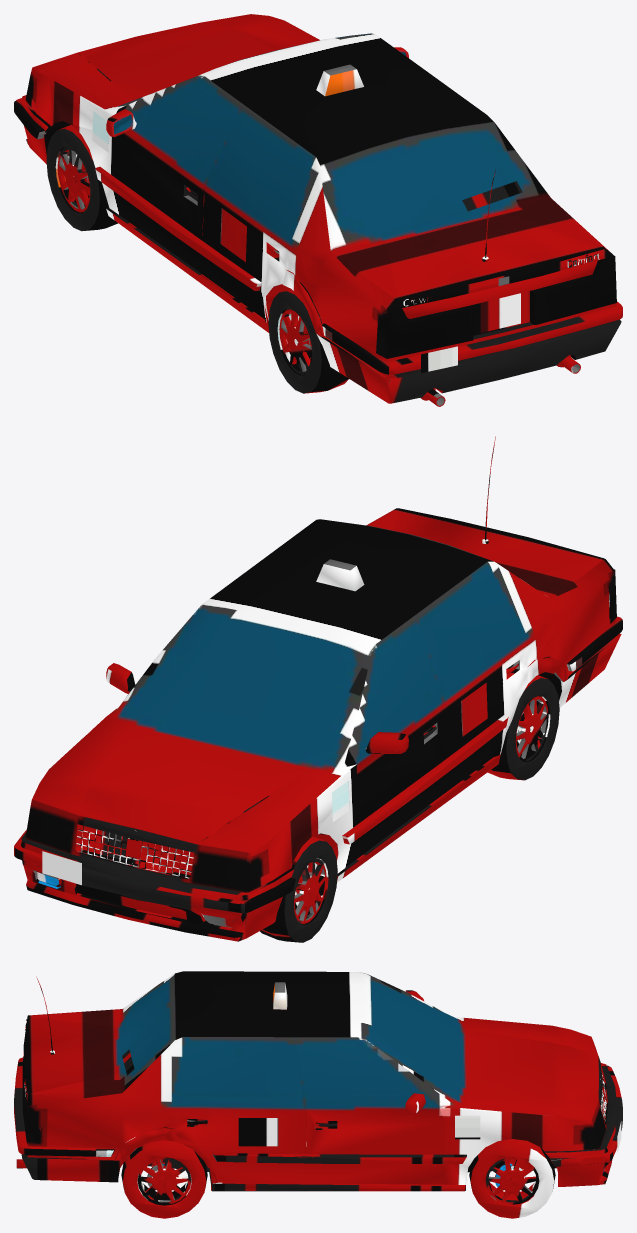
File: taxi.glb
3 renders of one model, top to bottom at view 1: azimuth 30°, elevation 25°; view 2: azimuth 150°, elevation 25°; view 3: azimuth 270°, elevation 25°, orthographic. The views are drawn at different scales.
Visible parts, largest first — view 1: lod0; view 2: lod0; view 3: lod0.
Part boxes in pixels (x1,y1,x2,y2): lod0: [14, 14, 622, 406]; lod0: [14, 436, 622, 942]; lod0: [14, 971, 622, 1218].
Size of what is drawn, in the model's own units: 2.08 by 1.7 by 4.7.
Materials: 1 (1 with a texture image).
